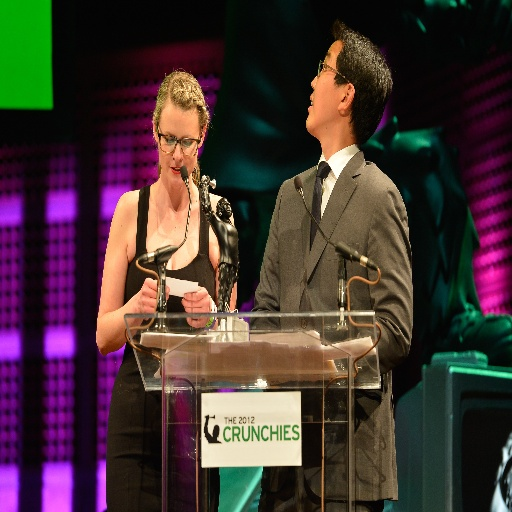hand: (125, 271, 160, 330), (181, 282, 212, 327)
